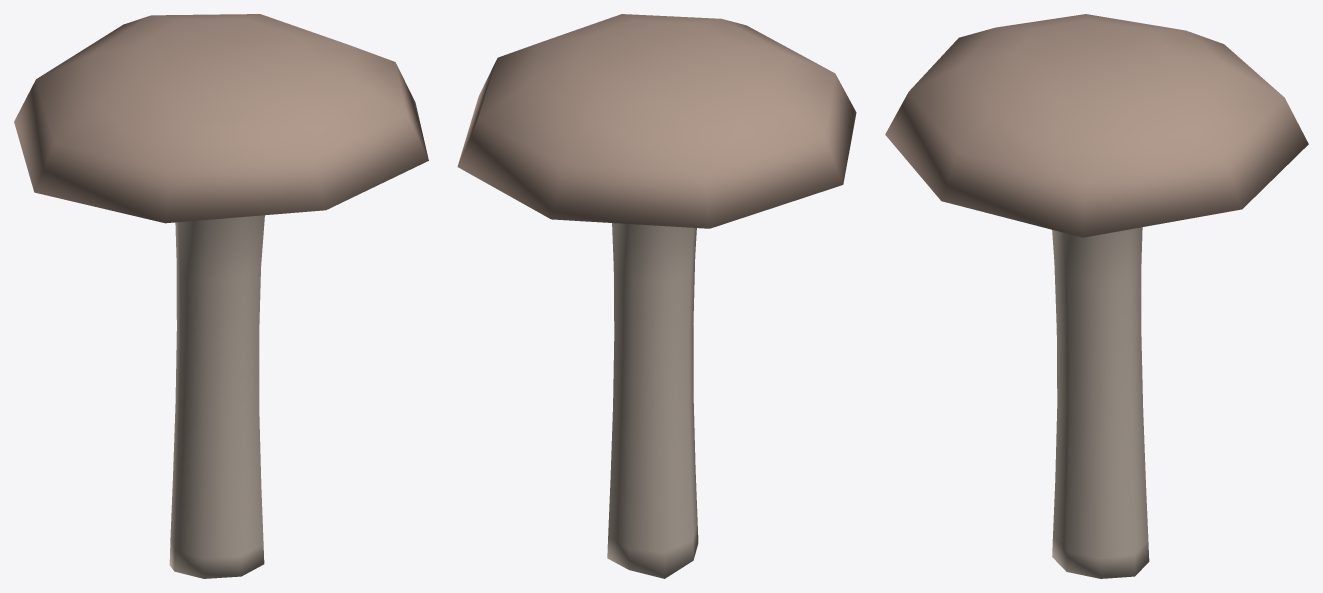
The model's file is BrownShroom.fbx.
3 renders of one model, left to right at view 1: azimuth 30°, elevation 25°; view 2: azimuth 150°, elevation 25°; view 3: azimuth 270°, elevation 25°, orthographic. The views are drawn at different scales.
Visible parts, largest first — view 1: mushroom 1 .001; view 2: mushroom 1 .001; view 3: mushroom 1 .001.
Boxes of the visible parts, left/top/right/bottom form: mushroom 1 .001: left=14, top=14, right=428, bottom=578; mushroom 1 .001: left=457, top=14, right=856, bottom=578; mushroom 1 .001: left=885, top=14, right=1308, bottom=578.
Size of the model in its own units: 63.89 by 84.34 by 62.56.
